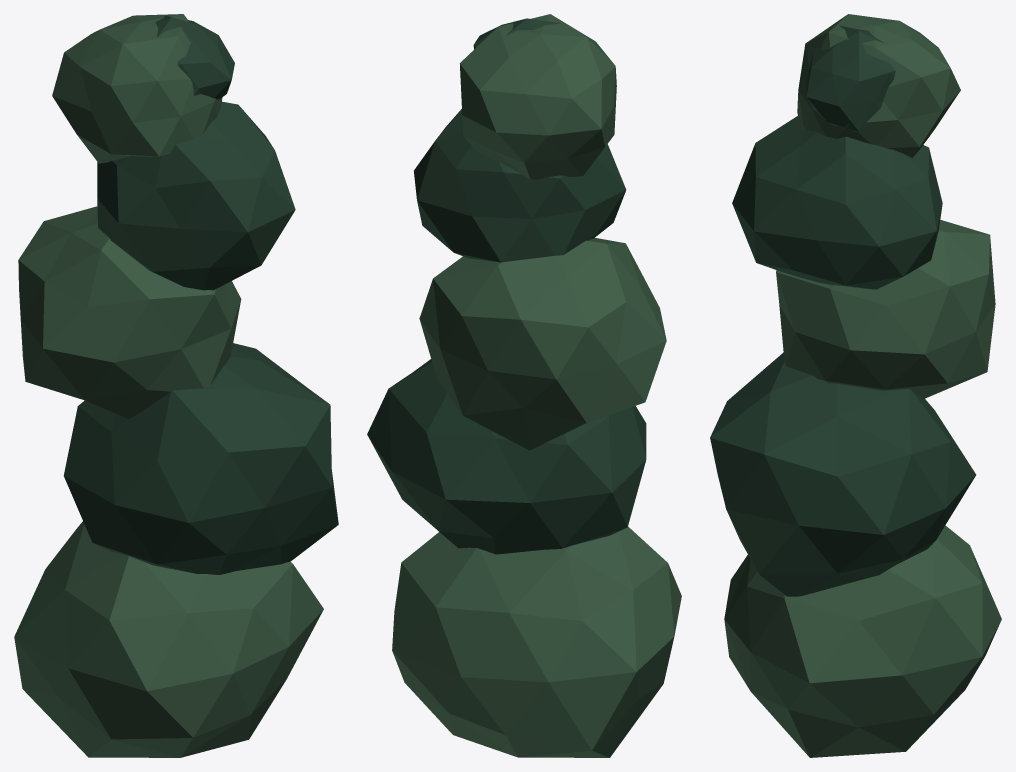
Rendered from green_smoke_plume.glb.
The picture shows the model from 3 angles, left to right: view 1: azimuth 30°, elevation 25°; view 2: azimuth 150°, elevation 25°; view 3: azimuth 270°, elevation 25°; orthographic projection. The views are drawn at different scales.
Parts seen in each view (by area): view 1: green_smoke_plume; view 2: green_smoke_plume; view 3: green_smoke_plume.
Part boxes in pixels (x1,y1,x2,y2): green_smoke_plume: (14, 14, 338, 757); green_smoke_plume: (367, 14, 681, 757); green_smoke_plume: (710, 14, 1001, 757).
Bounding box in the file's own units: 1.19 × 2.91 × 1.09.
Materials: 1 (1 with a texture image).
